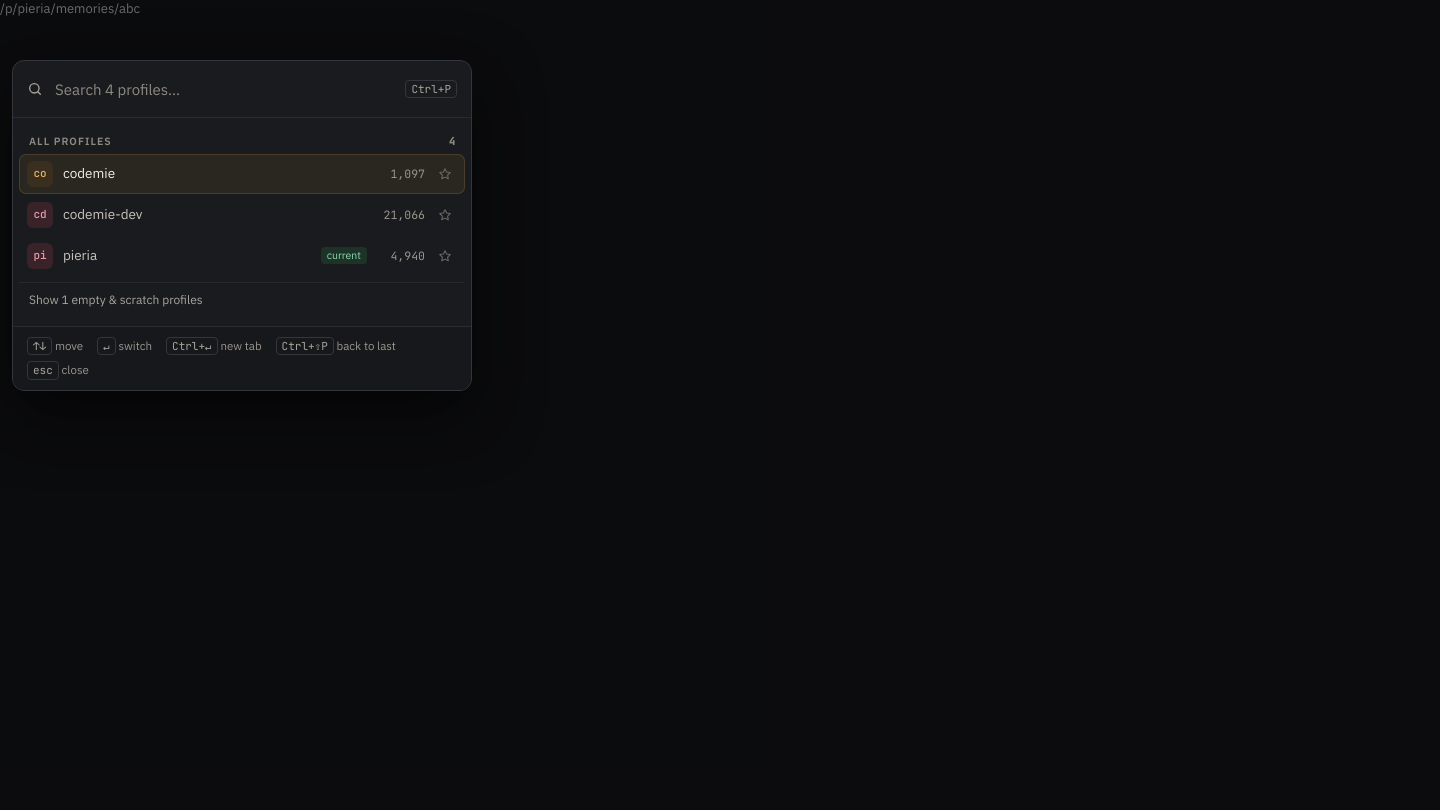
Test case: ProfileSwitcher › filters, moves with the arrow keys and switches while keeping the section
Expected: the option "co codemie 1,097" is shown, [19,154,465,194]
Expected: the button "Show 1 empty & scratch profiles" is shown, [19,282,465,318]
Step 1. Type "code" into the dropdown labelled "Ctrl+P" → [224, 89], box [53,73,395,105]
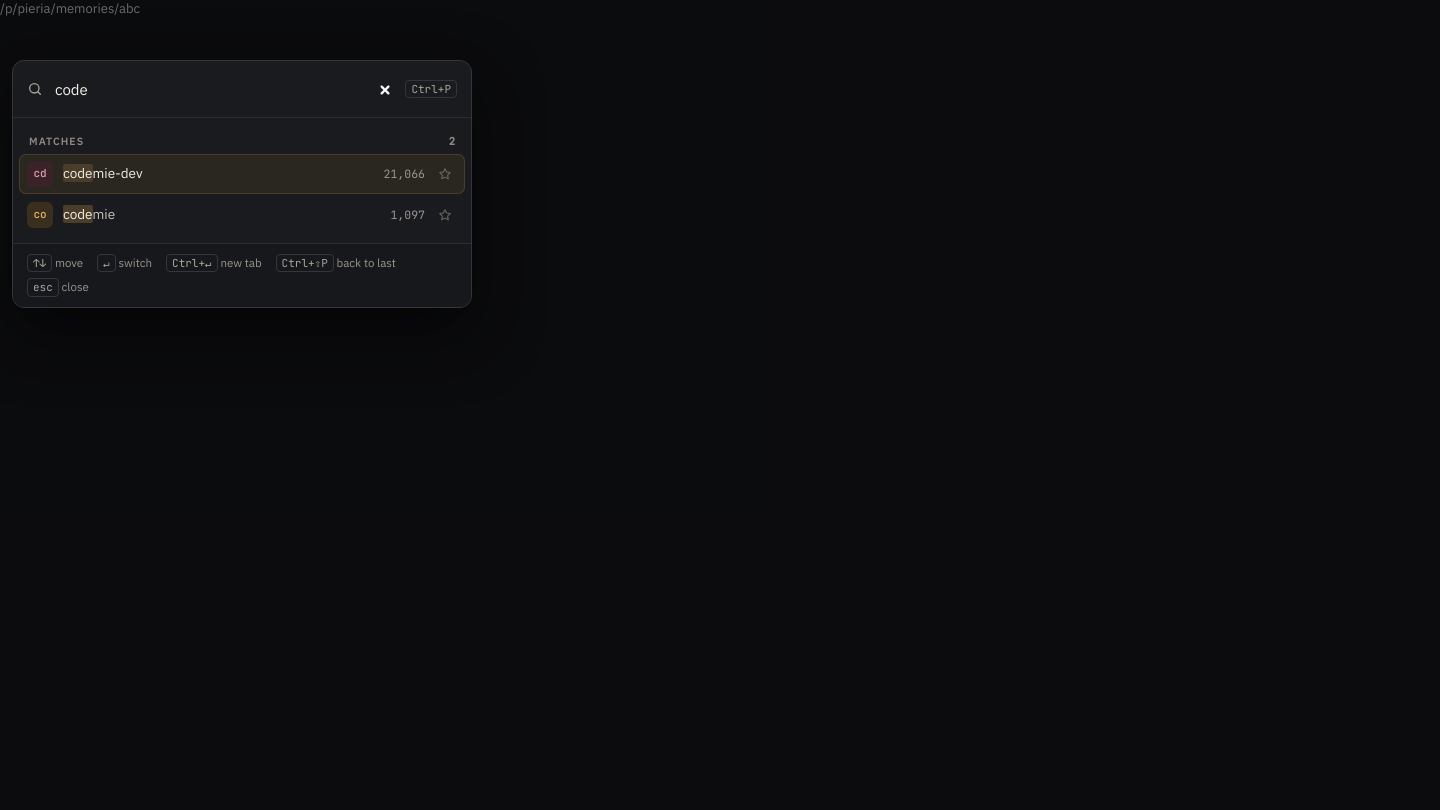
Step 2. Press Arrowdown Enter
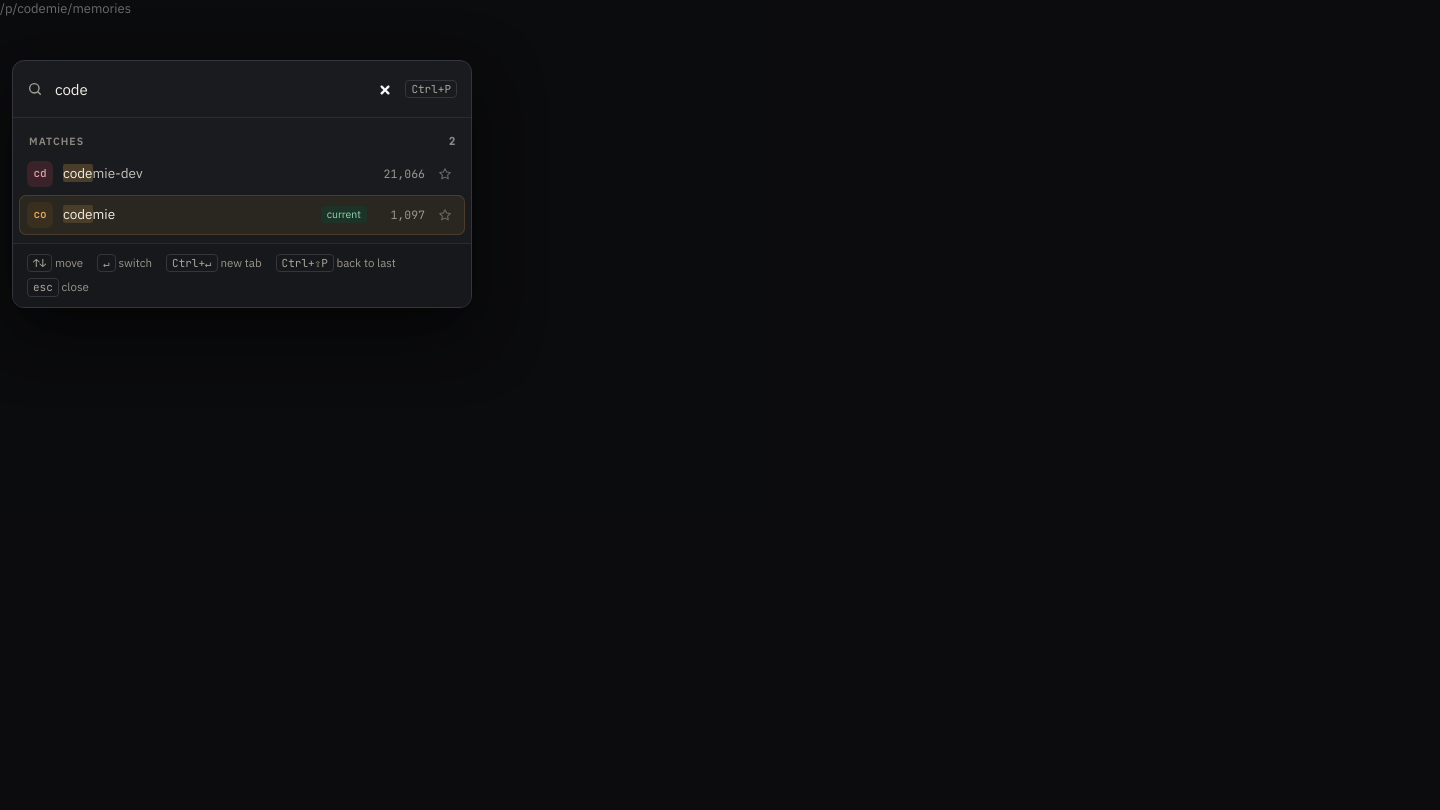
Result: the text with test id "location" reads "/p/codemie/memories" at [0,0,131,17]
